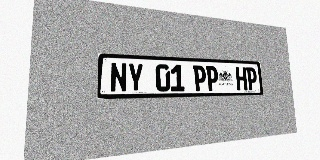0: (155, 64, 170, 92)
1: (170, 64, 184, 91)
H: (235, 67, 247, 90)
N: (110, 62, 127, 92)
P: (193, 65, 206, 91), (206, 66, 219, 91), (246, 67, 258, 90)
Y: (128, 63, 144, 92)
